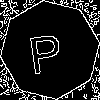P: (25, 25, 65, 75)
